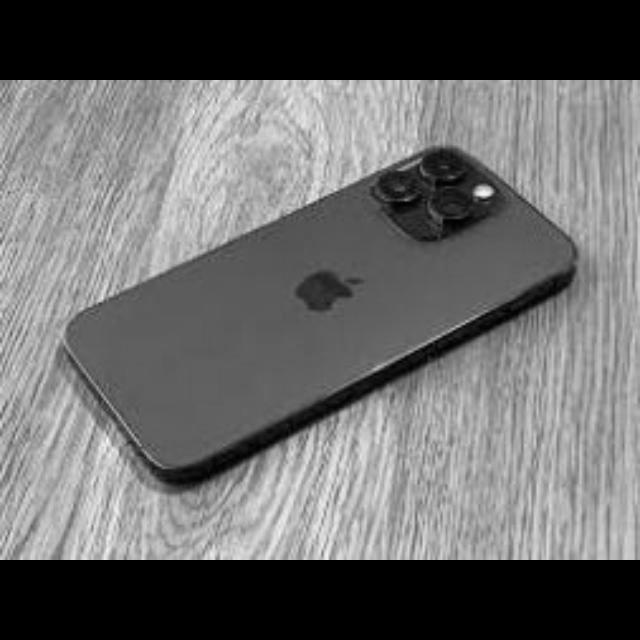fake: (16, 142, 622, 501)
